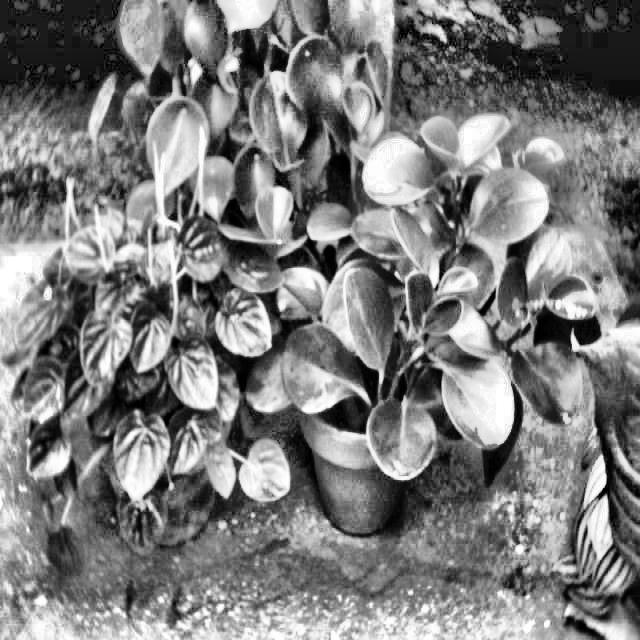plants: (282, 166, 562, 516), (9, 201, 268, 541)
